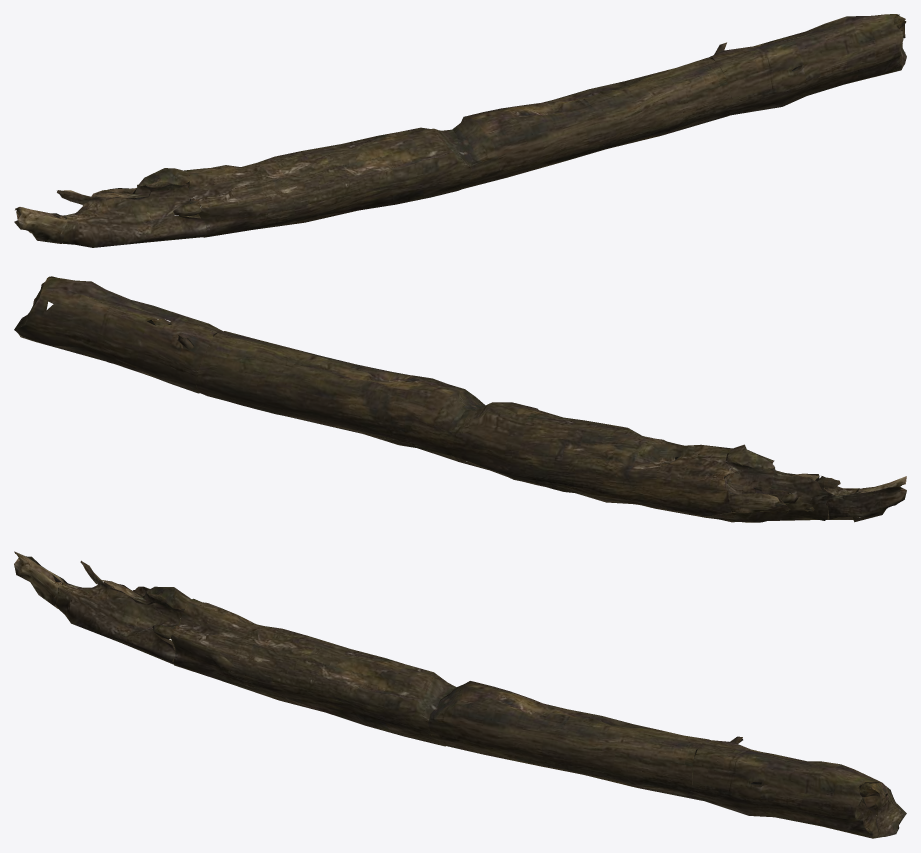
File: dead_tree_trunk.glb
The picture shows the model from 3 angles, top to bottom: view 1: azimuth 30°, elevation 25°; view 2: azimuth 150°, elevation 25°; view 3: azimuth 330°, elevation 25°; orthographic projection.
Parts seen in each view (by area): view 1: dead_tree_trunk; view 2: dead_tree_trunk; view 3: dead_tree_trunk.
Boxes of the visible parts, <box> form: dead_tree_trunk: <box>14,14,906,247</box>; dead_tree_trunk: <box>14,276,906,522</box>; dead_tree_trunk: <box>14,551,906,838</box>.
Bounding box in the file's own units: 3.05 × 0.2937 × 0.2732.
1 material, 1 textured.
